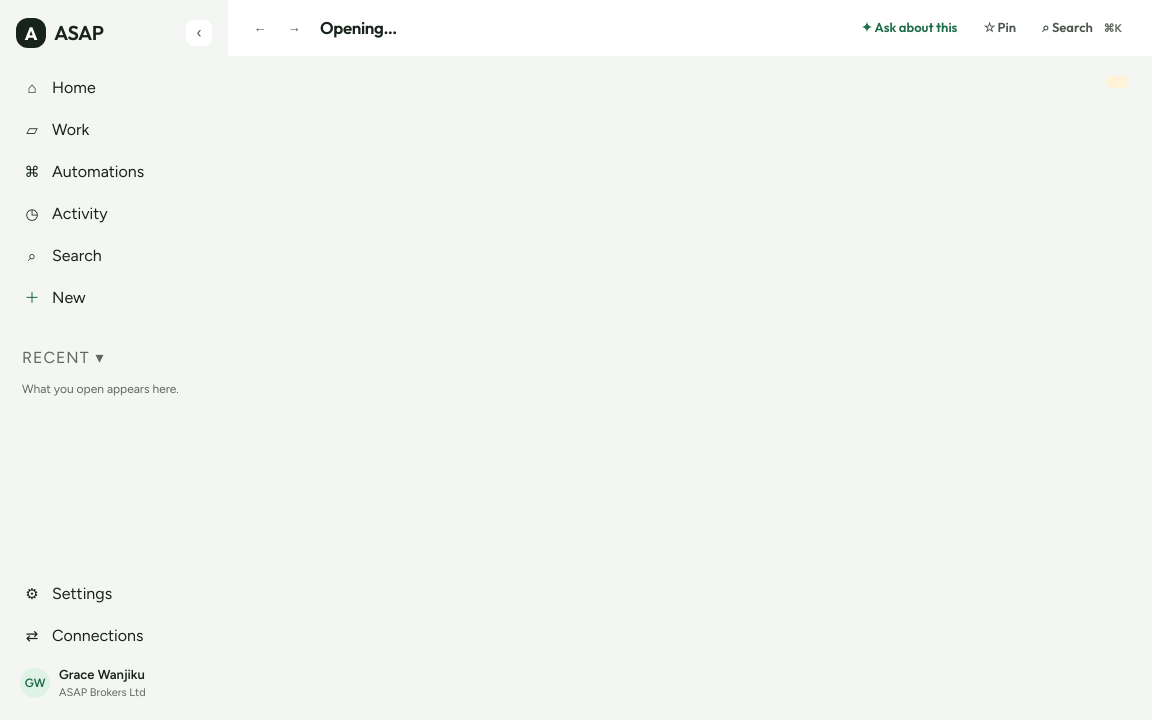
Test: the adaptive shell › a Space opens full width; Ask about this opens a scoped drawer at its own address
The width and height of the screenshot is (1152, 720).
Click the button "✦ Ask about this" at (909, 28), box [851, 12, 967, 44]
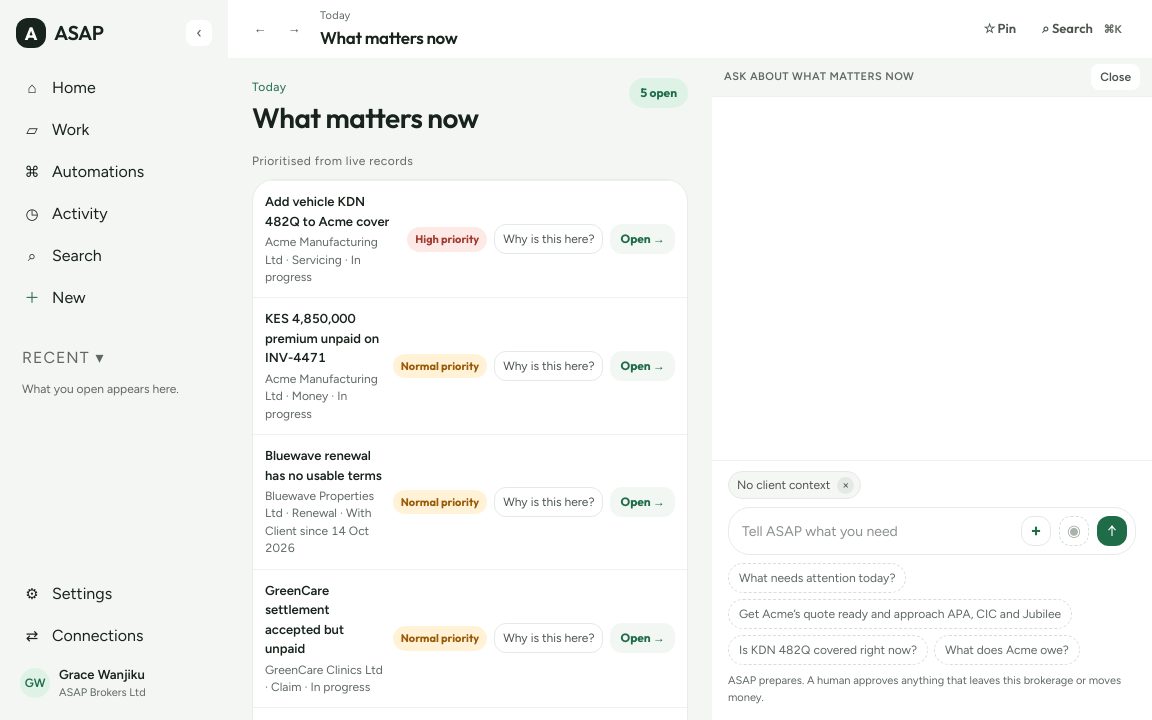
Result: the element with class "asap-ask" is shown at [712, 97, 1151, 719]
